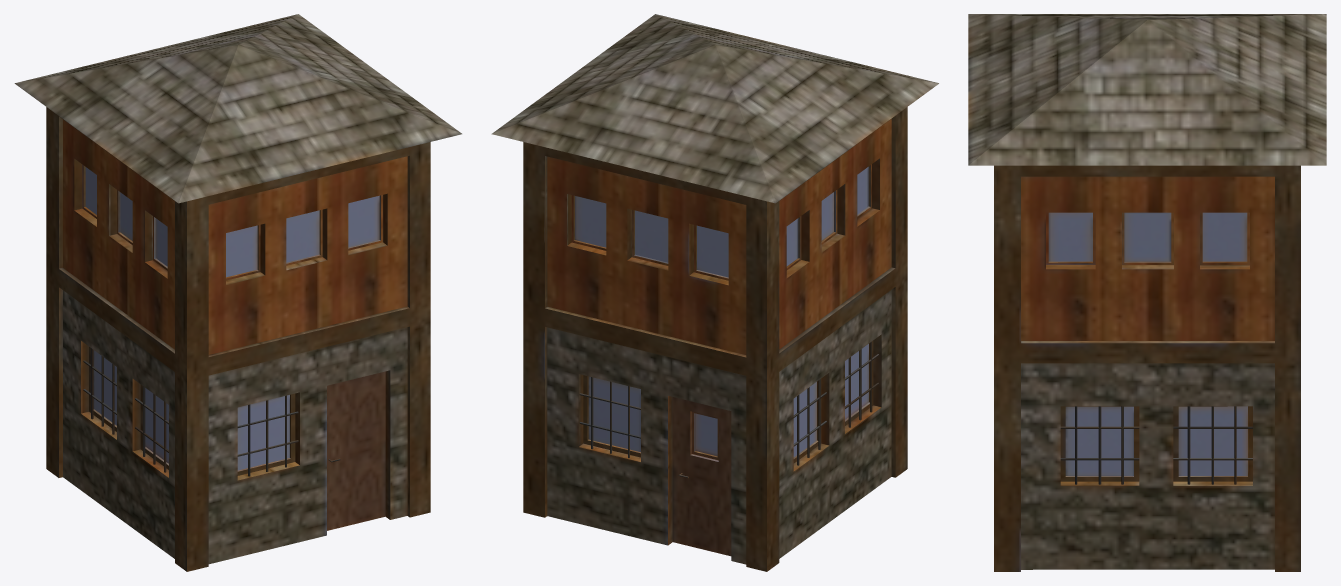
File: wachhaus.obj
The picture shows the model from 3 angles, left to right: view 1: azimuth 30°, elevation 25°; view 2: azimuth 150°, elevation 25°; view 3: azimuth 270°, elevation 25°; orthographic projection. The views are drawn at different scales.
Size of the model in its own units: 3.55 by 5.32 by 3.55.
1 material, 1 textured.
